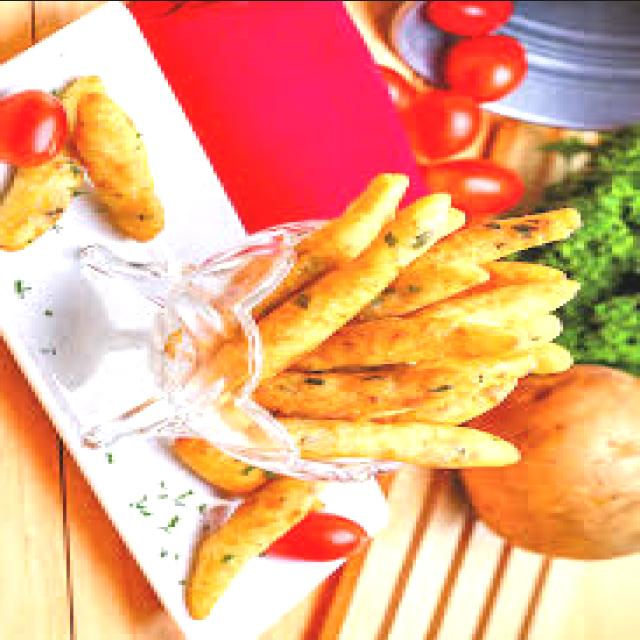kentang goreng: (252, 172, 581, 468)
